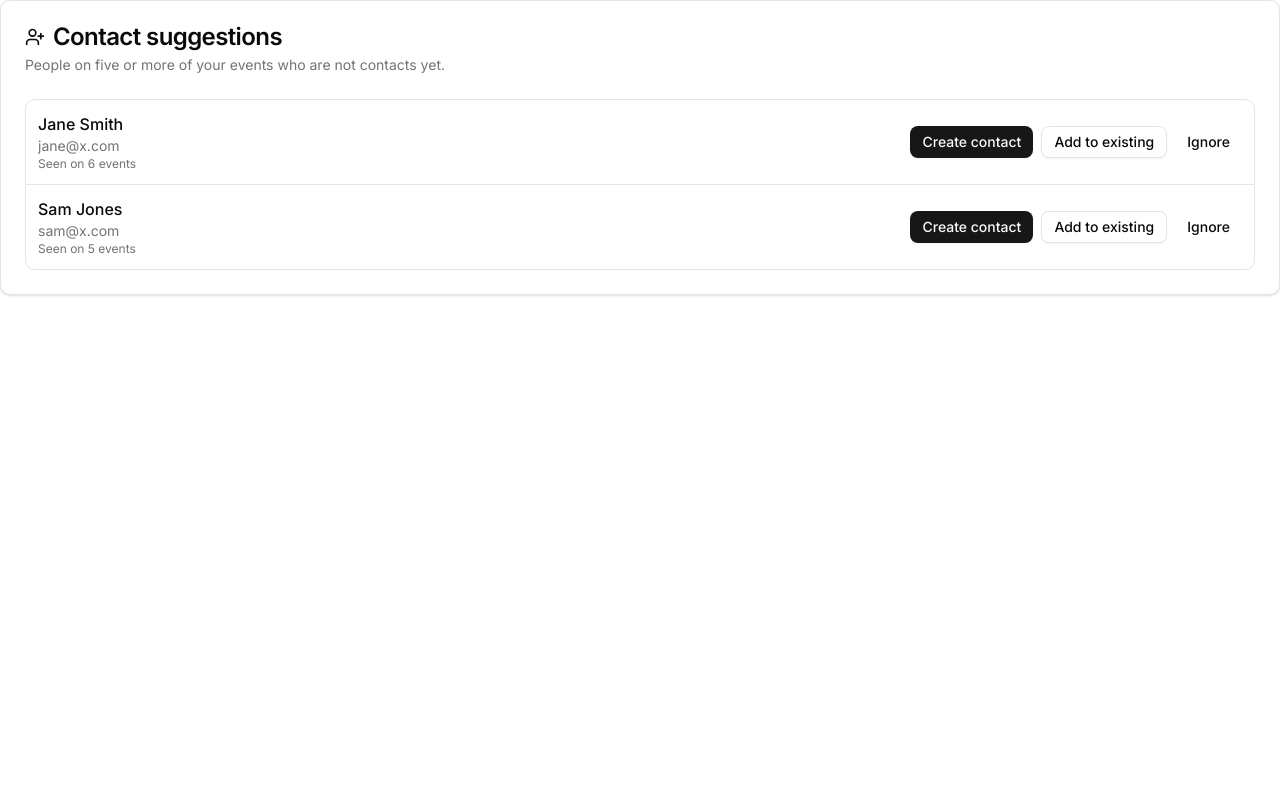
ContactSuggestionsCard › keeps another suggestion's dialog open when an earlier accept succeeds
The width and height of the screenshot is (1280, 800).
Click the button with aria-label "Create contact for jane@x.com" at (972, 142), box [910,126,1033,158]
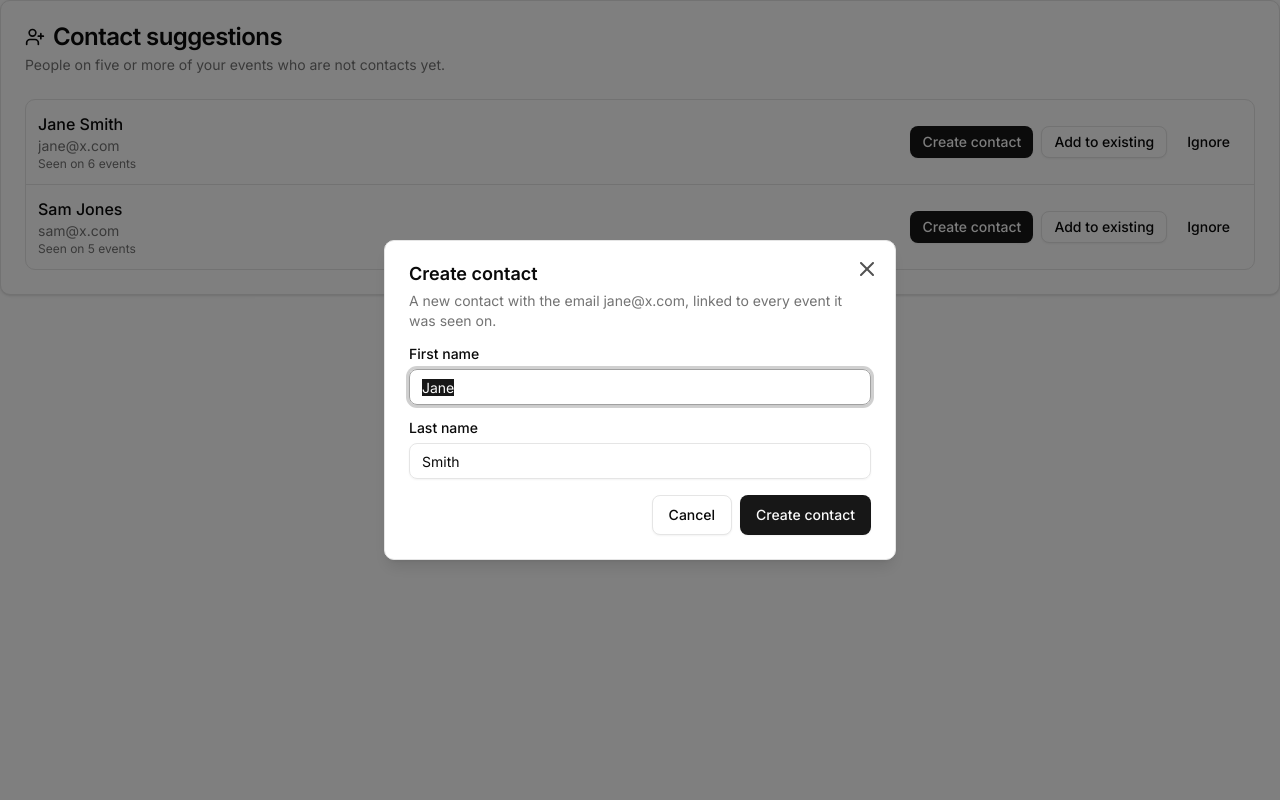
Click the button "Create contact" at (806, 515), box [740,495,871,535]
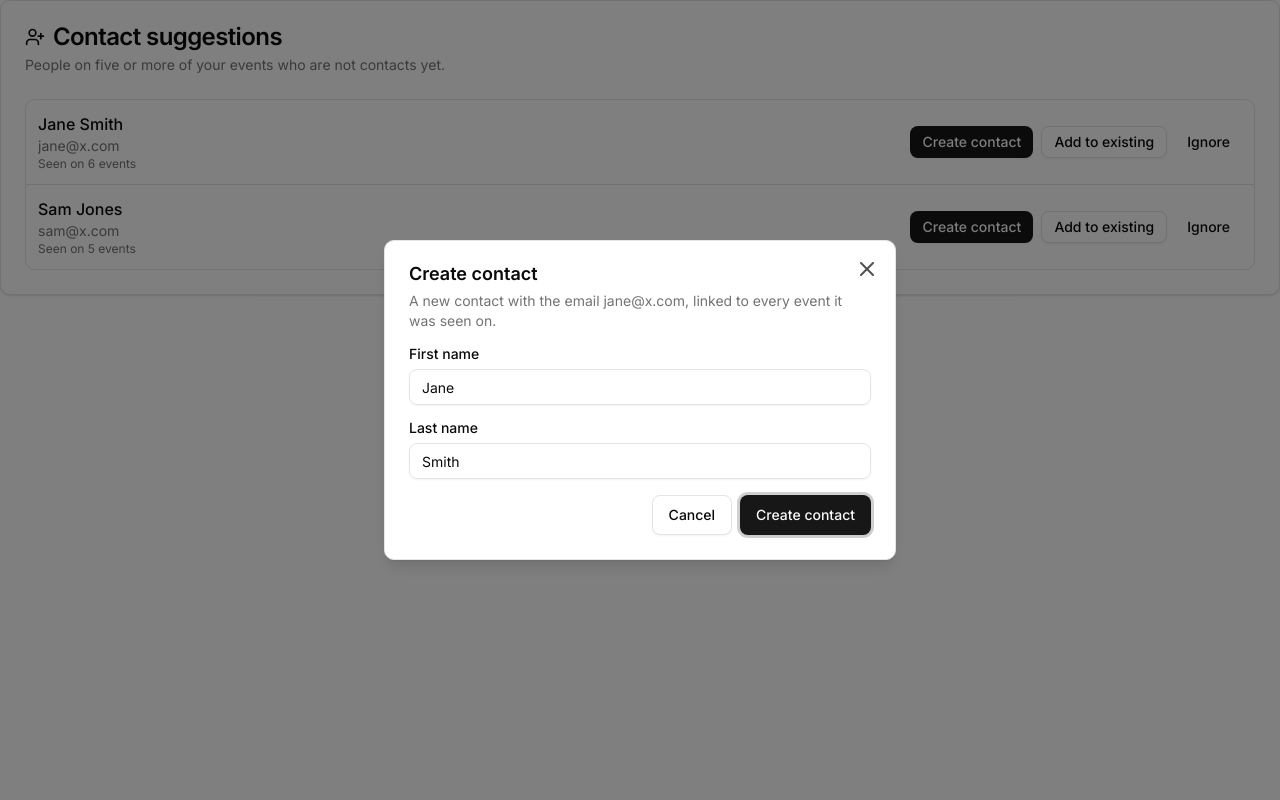
Click the button "Cancel" at (692, 515), box [652,495,732,535]
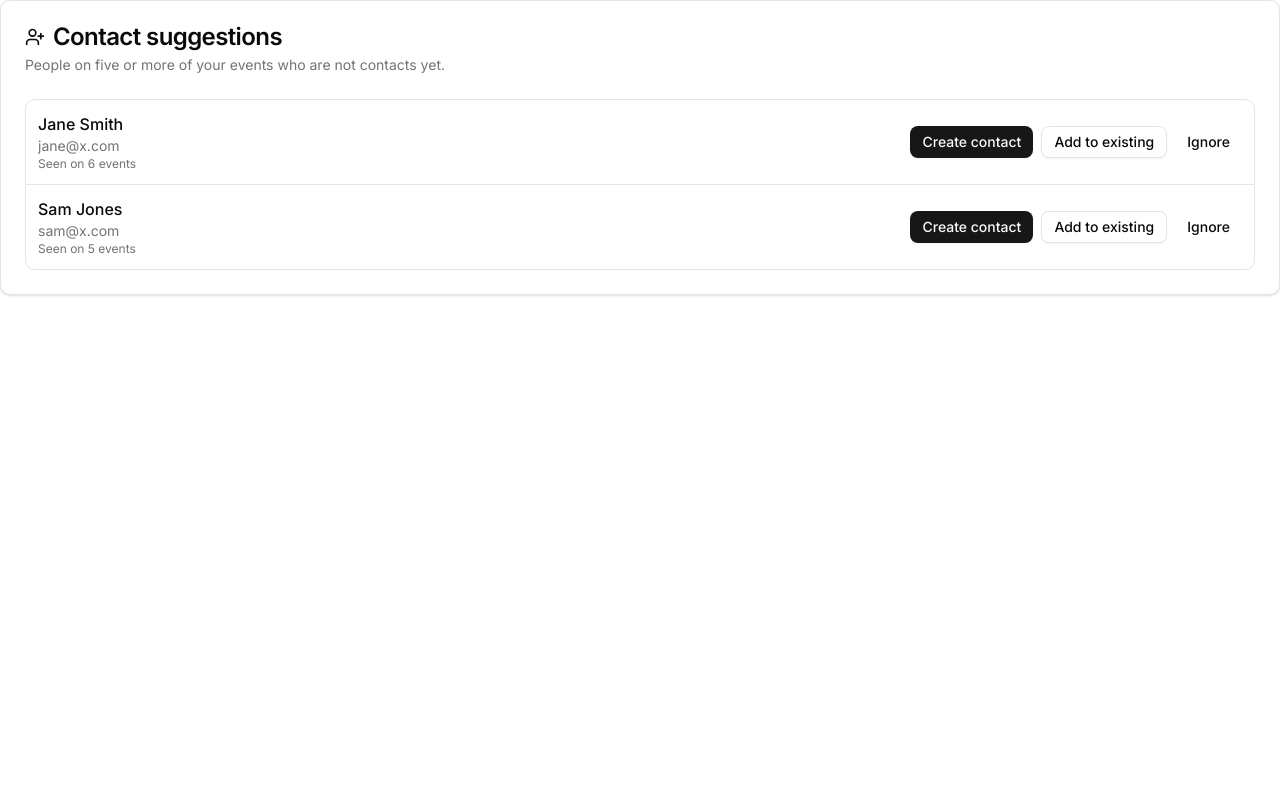
Click the button with aria-label "Create contact for sam@x.com" at (972, 227), box [910,211,1033,243]
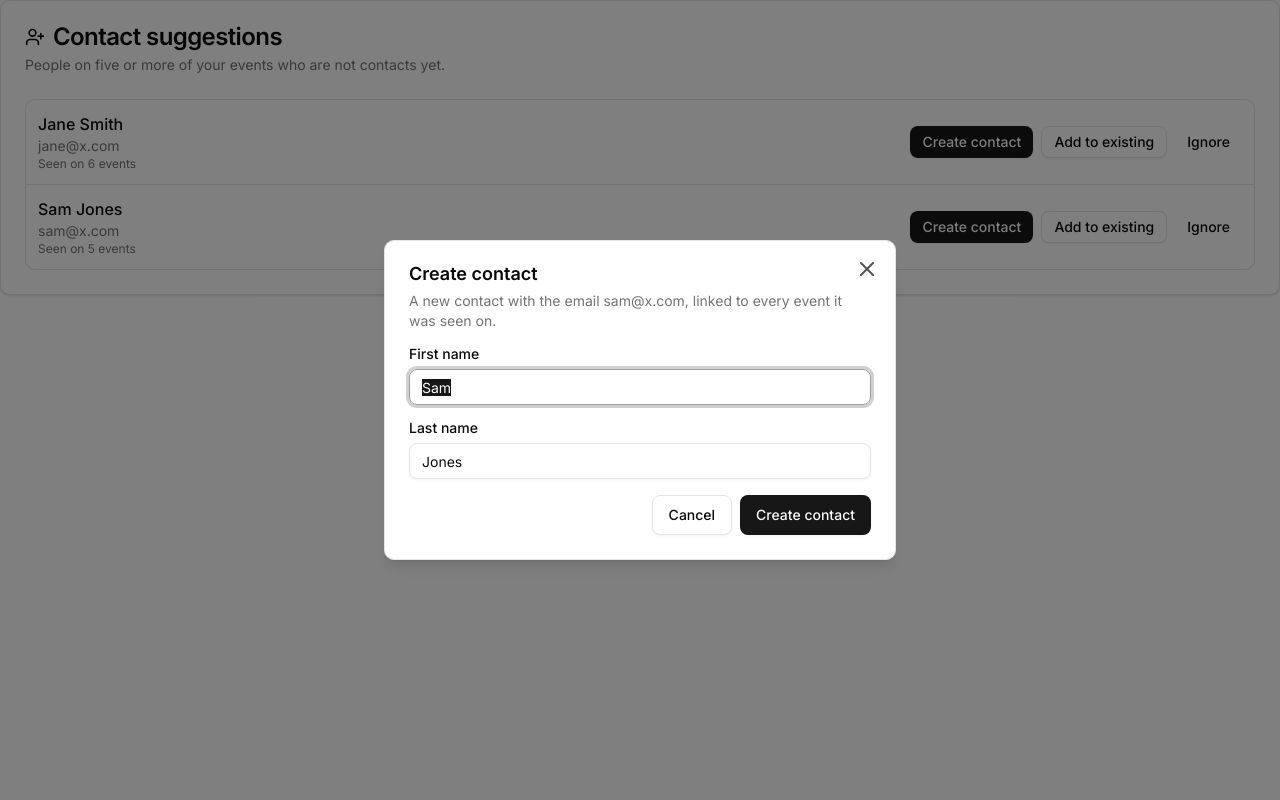
Result: the field labelled "First name" holds "Sam" at [409,369,871,405]
